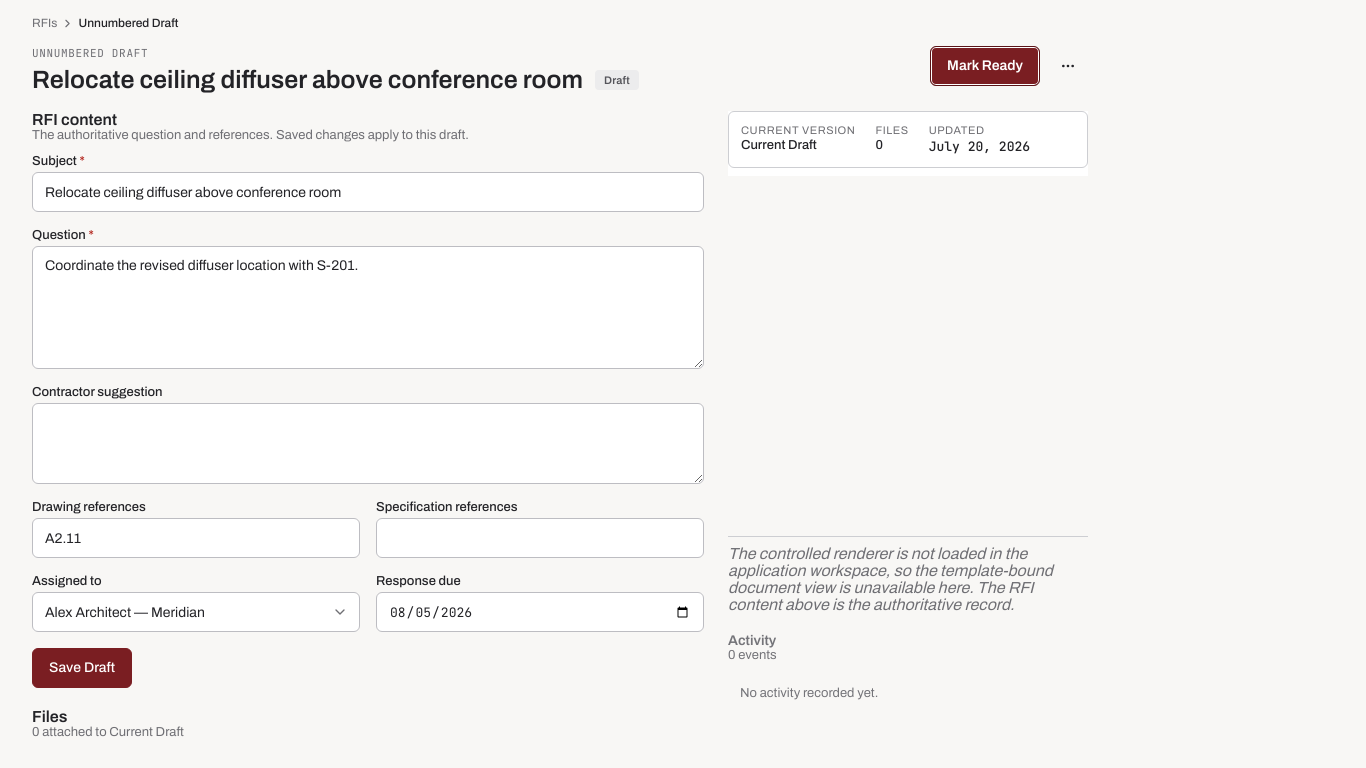
Test: RFI workspace — mark ready confirmation › confirms with Save and mark ready when the draft has unsaved edits
The image size is (1366, 768).
Check: the header with class "base-workspace__identity" is shown, box [32,46,1088,95]
Replace the text in the field labelled "Subject *" with "Changed subject" at (368, 192), box [32,172,704,212]
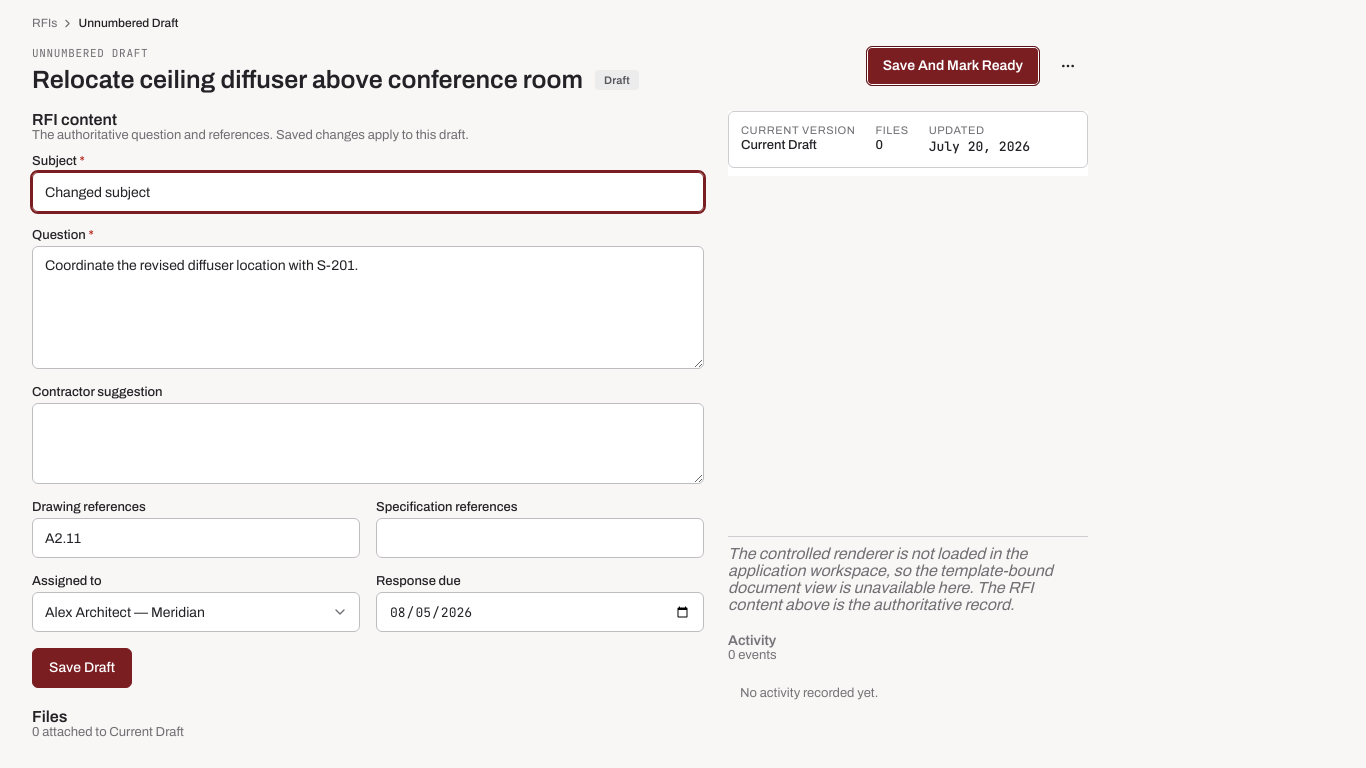
Click the button "Save and mark ready" at (953, 66), box [866,46,1040,86]
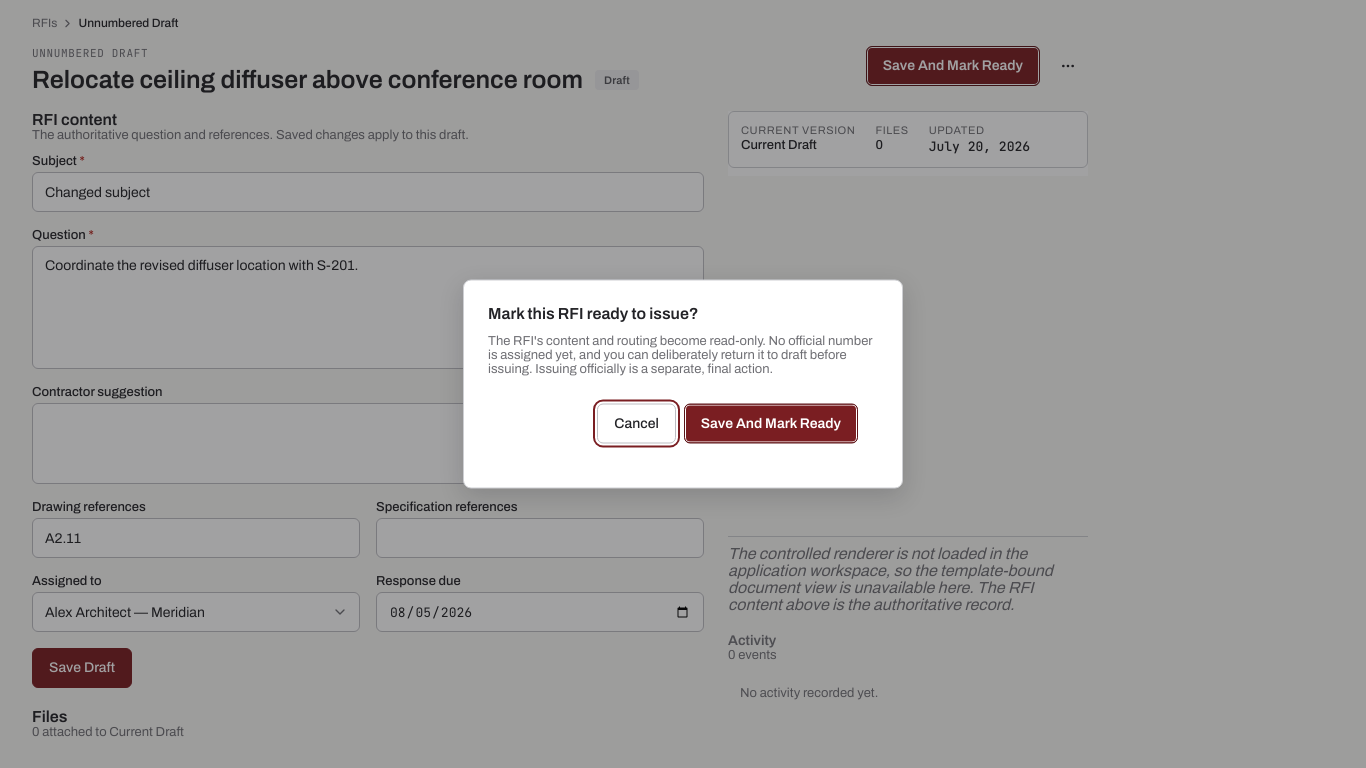
Check: the button "Save and mark ready" is shown, box [684,404,858,444]
